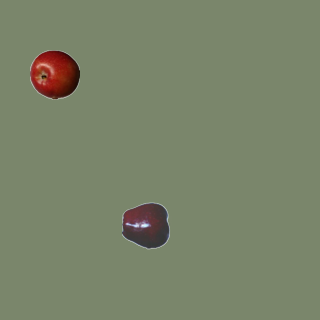Apple Braeburn: (29, 49, 79, 99)
Apple Red Delicious: (121, 200, 171, 250)
